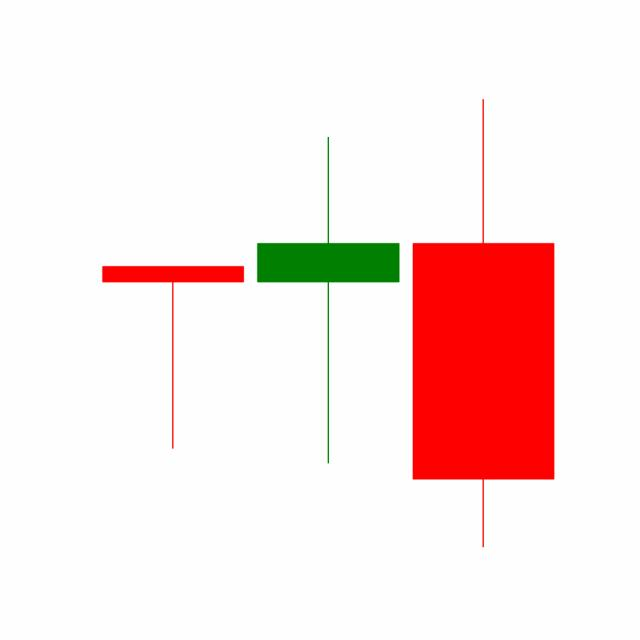Spinning Top: (249, 133, 406, 467)
